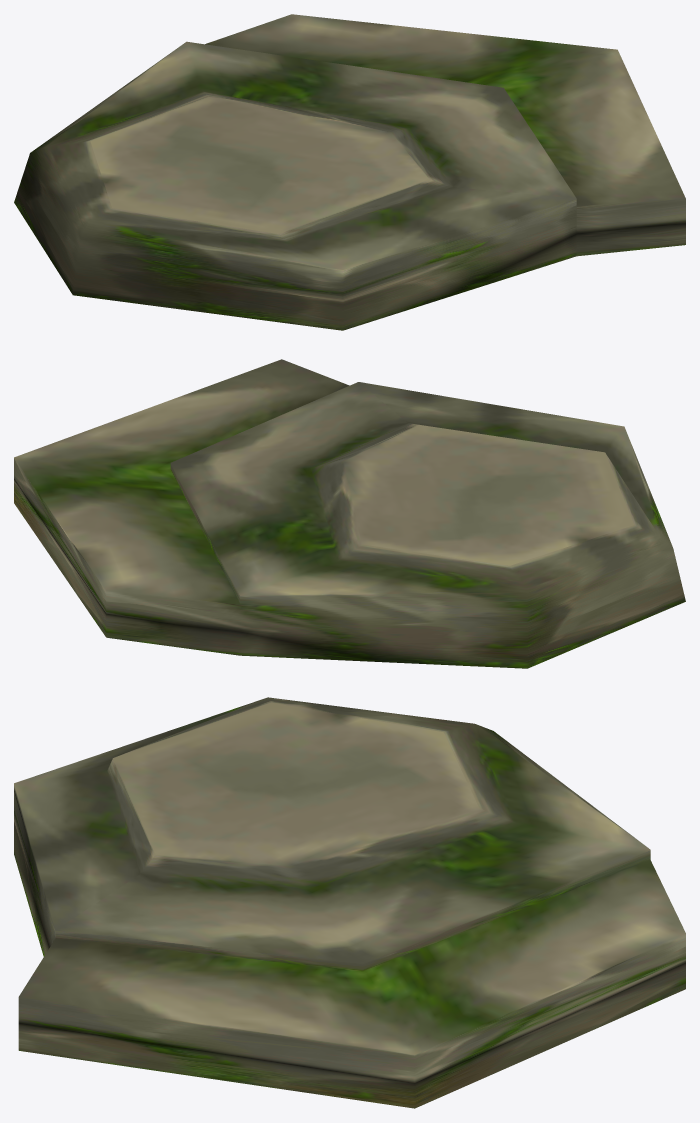
The model's file is RockFormation_4_5 (8).fbx.
The picture shows the model from 3 angles, top to bottom: view 1: azimuth 30°, elevation 25°; view 2: azimuth 150°, elevation 25°; view 3: azimuth 270°, elevation 25°; orthographic projection. The views are drawn at different scales.
Visible parts, largest first — view 1: RockFormation_4_5 (8); view 2: RockFormation_4_5 (8); view 3: RockFormation_4_5 (8).
Part boxes in pixels (x1,y1,x2,y2): RockFormation_4_5 (8): [14, 14, 685, 330]; RockFormation_4_5 (8): [14, 359, 685, 668]; RockFormation_4_5 (8): [14, 697, 685, 1108].
Size of the model in its own units: 1446 by 161 by 1177.
